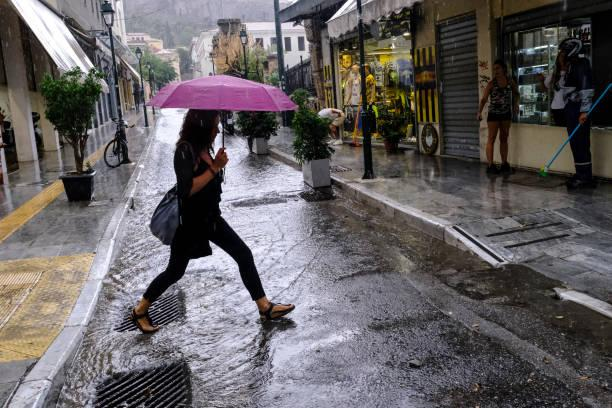pedestrian: (119, 72, 309, 337), (534, 35, 606, 189), (474, 58, 526, 178)
